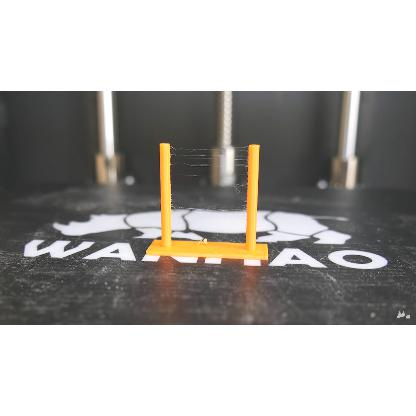fail: (169, 146, 247, 180), (220, 184, 246, 212)
